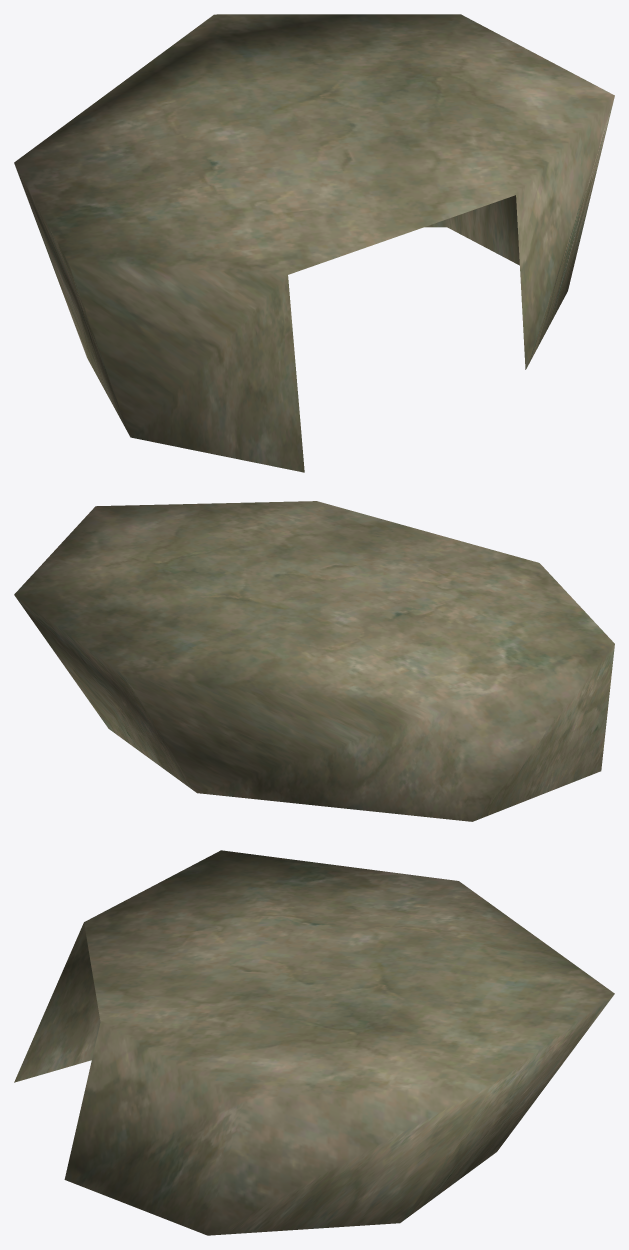
The model's file is EKH_THRONE_PS_TH_PLATFORM_5454.fbx.
3 views of the same model, one above another, from view 1: azimuth 30°, elevation 25°; view 2: azimuth 150°, elevation 25°; view 3: azimuth 270°, elevation 25° (orthographic). The views are drawn at different scales.
Parts seen in each view (by area): view 1: EKH_THRONE_PS_TH_PLATFORM_5454; view 2: EKH_THRONE_PS_TH_PLATFORM_5454; view 3: EKH_THRONE_PS_TH_PLATFORM_5454.
Boxes of the visible parts, left/top/right/bottom form: EKH_THRONE_PS_TH_PLATFORM_5454: left=14, top=14, right=614, bottom=472; EKH_THRONE_PS_TH_PLATFORM_5454: left=14, top=501, right=614, bottom=821; EKH_THRONE_PS_TH_PLATFORM_5454: left=14, top=850, right=614, bottom=1235.
Bounding box in the file's own units: 33487 × 11317 × 30993.
1 material, 1 textured.
